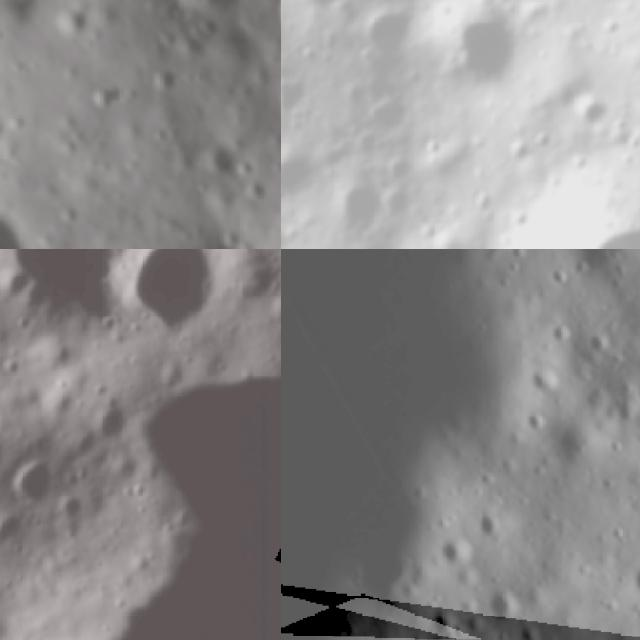crater: (12, 355, 281, 640), (427, 0, 539, 95), (0, 249, 139, 324), (115, 249, 221, 342), (528, 163, 640, 249), (347, 0, 427, 69), (321, 176, 396, 249), (186, 124, 258, 194), (148, 0, 281, 30), (426, 514, 487, 578), (133, 53, 194, 115), (475, 565, 533, 628), (2, 451, 58, 514), (281, 140, 328, 211), (603, 538, 640, 623), (565, 87, 616, 135), (384, 615, 481, 640), (0, 260, 33, 307), (91, 403, 129, 441), (0, 98, 20, 164), (262, 0, 281, 61), (52, 492, 82, 530), (122, 476, 155, 508), (267, 296, 281, 330)
